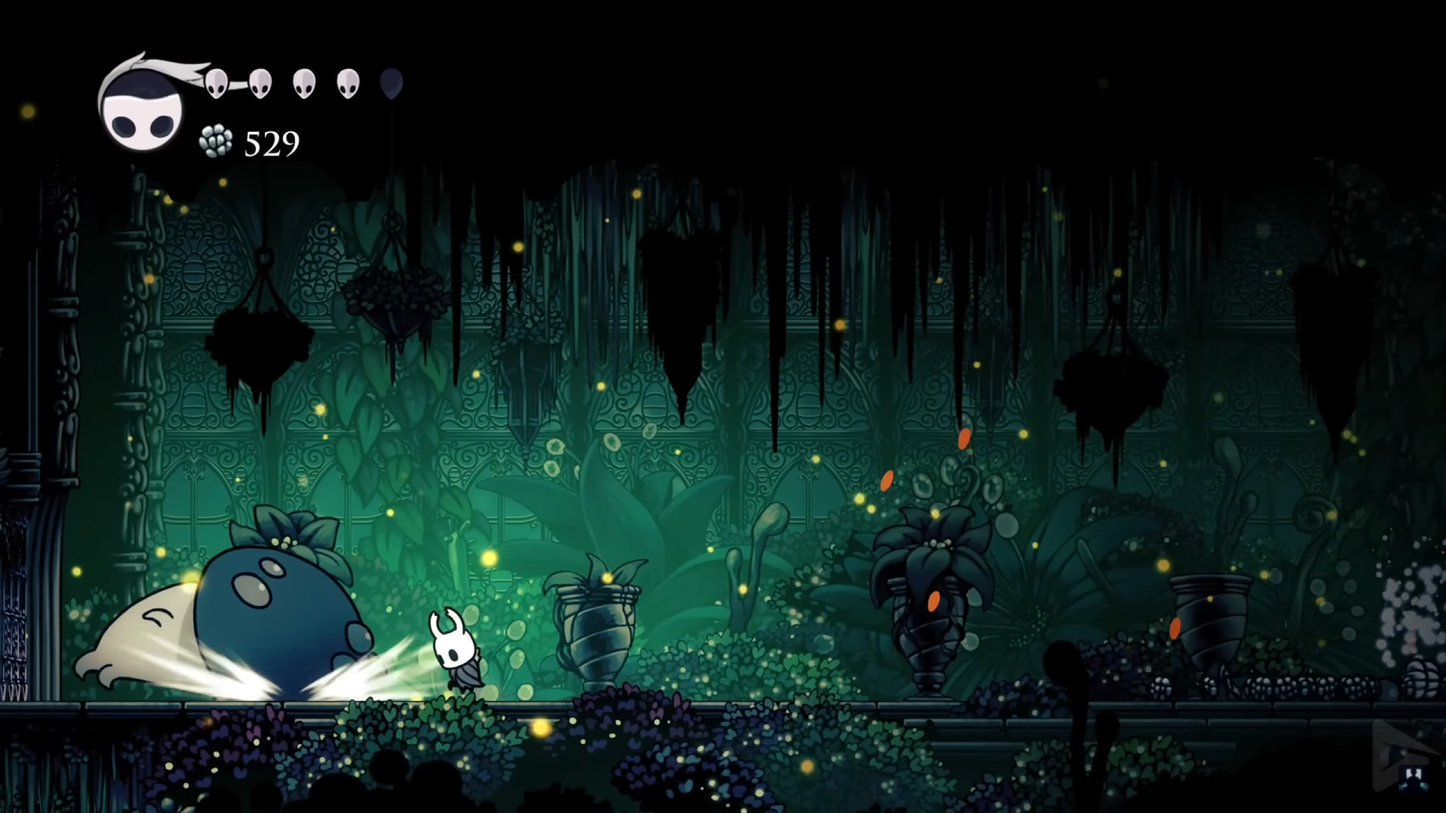HK: (425, 601, 487, 701)
